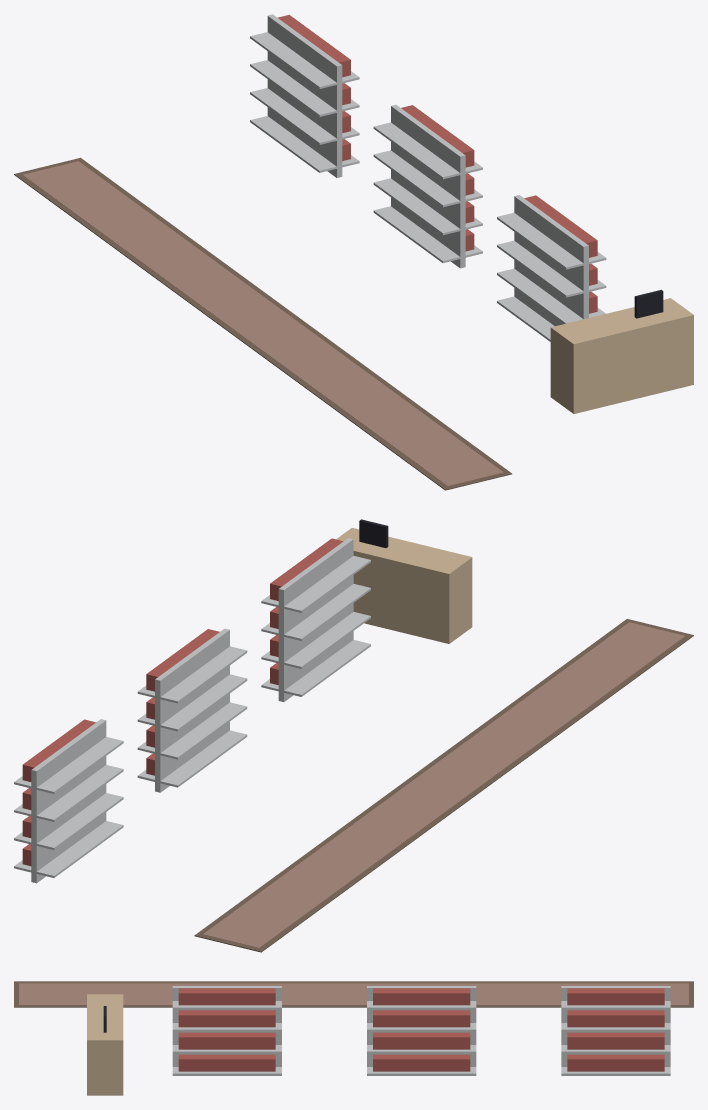
Rendered from fine-s0.glb.
3 views of the same model, one above another, from view 1: azimuth 30°, elevation 25°; view 2: azimuth 150°, elevation 25°; view 3: azimuth 270°, elevation 25° (orthographic). The views are drawn at different scales.
Parts seen in each view (by area): view 1: soft-s0, shop-counter.000, shelf.000, shelf.001, shelf.002; view 2: soft-s0, shelf.000, shelf.002, shelf.001, shop-counter.000; view 3: soft-s0, shelf.000, shelf.001, shelf.002, shop-counter.000.
Boxes of the visible parts, box(x1,y1,x2,y2) form: soft-s0: box(14, 157, 511, 490); shop-counter.000: box(550, 289, 693, 413); shelf.000: box(250, 14, 359, 177); shelf.001: box(373, 104, 482, 268); shelf.002: box(497, 195, 606, 341); soft-s0: box(194, 619, 693, 952); shelf.000: box(14, 719, 123, 883); shelf.002: box(261, 538, 370, 701); shelf.001: box(137, 628, 247, 792); shop-counter.000: box(336, 519, 472, 643); soft-s0: box(14, 981, 693, 1007); shelf.000: box(561, 986, 670, 1075); shelf.001: box(367, 986, 476, 1075); shelf.002: box(172, 986, 281, 1075); shop-counter.000: box(87, 994, 123, 1095).
Bounding box in the file's own units: 4.42 × 1.6 × 11.19.
